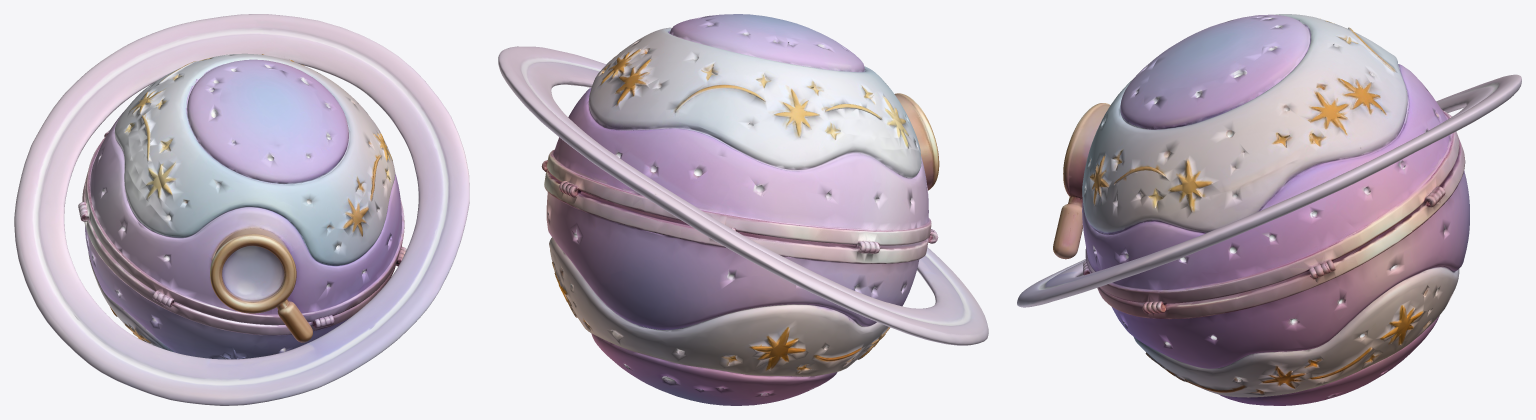
Rendered from planet.glb.
The picture shows the model from 3 angles, left to right: view 1: azimuth 30°, elevation 25°; view 2: azimuth 150°, elevation 25°; view 3: azimuth 270°, elevation 25°; orthographic projection. The views are drawn at different scales.
Parts seen in each view (by area): view 1: tripo_part_1, tripo_part_2, tripo_part_0, tripo_part_3; view 2: tripo_part_1, tripo_part_0, tripo_part_2, tripo_part_3; view 3: tripo_part_1, tripo_part_0, tripo_part_2, tripo_part_3.
Part boxes in pixels (x1,y1,x2,y2): tripo_part_1: [84, 53, 404, 325]; tripo_part_2: [14, 14, 469, 405]; tripo_part_0: [78, 177, 406, 359]; tripo_part_3: [210, 228, 312, 342]; tripo_part_1: [546, 14, 931, 245]; tripo_part_0: [541, 160, 938, 405]; tripo_part_2: [498, 46, 988, 345]; tripo_part_3: [894, 93, 939, 190]; tripo_part_1: [1082, 14, 1459, 305]; tripo_part_0: [1083, 138, 1469, 405]; tripo_part_2: [1017, 74, 1521, 307]; tripo_part_3: [1053, 103, 1110, 259].
Bounding box in the file's own units: 1 × 0.7528 × 0.963.
Materials: 5 (5 with a texture image).
